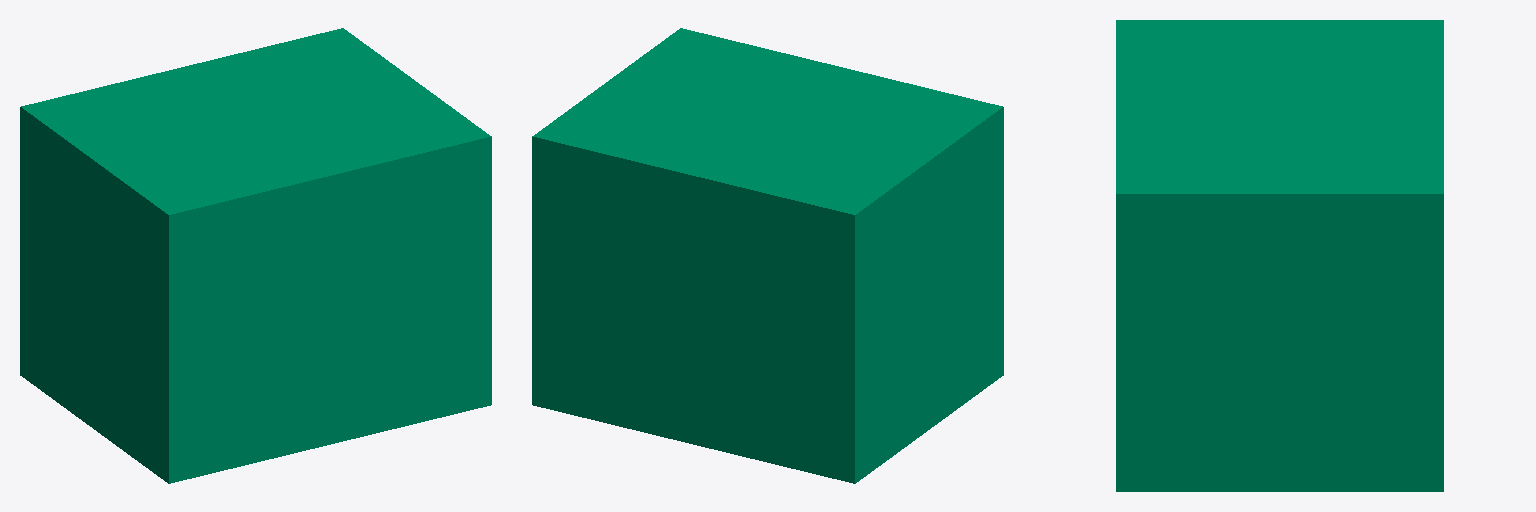
The robot description file, URDF, robot "spam.urdf":
<?xml version="1.0" ?>
<robot name="spam.urdf">

  <link name="world_axis1">
    <inertial>
      <mass value="0"/>
      <inertia ixx="0.0" ixy="0.0" ixz="0.0" iyy="0.0" iyz="0.0" izz="0.0"/>
    </inertial>
  </link>
    <link name="world_axis2">
    <inertial>
      <mass value="0"/>
      <inertia ixx="0.0" ixy="0.0" ixz="0.0" iyy="0.0" iyz="0.0" izz="0.0"/>
    </inertial>
  </link>

  <link name="spam">
    <contact>
      <lateral_friction value="0.5"/>
      <rolling_friction value="0.0"/>
      <contact_cfm value="0.0"/>
      <contact_erp value="1.0"/>
    </contact>
    <inertial>
      <origin rpy="0 0 0" xyz="0.0 0.02 0.0"/>
       <mass value=".5"/>
       <inertia ixx="1" ixy="0" ixz="0" iyy="1" iyz="0" izz="1"/>
    </inertial>
    <visual>
      <origin rpy="0 0 0" xyz="0 0 0"/>
      <geometry>
        <!-- <mesh filename="roboverse/envs/assets/objects/spam/spam.obj" scale="1 1 1"/> -->

        <!--<mesh filename="roboverse_assets/objects/spam/spam.obj" scale="1 1 1"/>-->

        <!-- <mesh filename="[local-path]/Desktop/spam.obj" scale="1 1 1"/> -->
        <box size="2.45 1.95 1.95"/>
      </geometry>
      <!--<material name="white">
        <color rgba="1 1 1 1"/>
      </material>-->
    </visual>
    <collision>
      <origin rpy="0 0 0" xyz="0 0 0"/>
      <geometry>
	 	   <!-- <mesh filename="[local-path]/Desktop/" scale=".05 .05 .05"/> -->
       <box size="2.45 1.95 1.95"/>
      </geometry>
    </collision>
  </link>

    <joint name="base_joint" type="planar">
        <parent link="world_axis1"/>
        <child link="world_axis2"/>
        <axis xyz="0 0 1"/>
    </joint>
    <joint name="base_joint2" type="prismatic">
        <parent link="world_axis2"/>
        <child link="spam"/>
        <axis xyz="0 0 1"/>
        <limit effort="0" lower="-0.1" upper="0.1" velocity="100"/>
    </joint>

</robot>

--- Render facts (derived) ---
3 views of the same robot in one strip: view 1: azimuth 30°, elevation 25°; view 2: azimuth 150°, elevation 25°; view 3: azimuth 270°, elevation 25° (orthographic).
Robot: spam.urdf — 3 links, 2 joints (1 prismatic, 1 planar); root link world_axis1; default pose: all joints at 0.
Visible links, largest first — view 1: spam; view 2: spam; view 3: spam.
Link boxes in pixels (x1,y1,x2,y2): spam: [20, 28, 491, 483]; spam: [532, 28, 1003, 483]; spam: [1116, 20, 1443, 491].
Size in the robot's own frame: 2.45 by 1.95 by 1.95 metres.
Geometry: primitives only (box / cylinder / sphere), no mesh files.